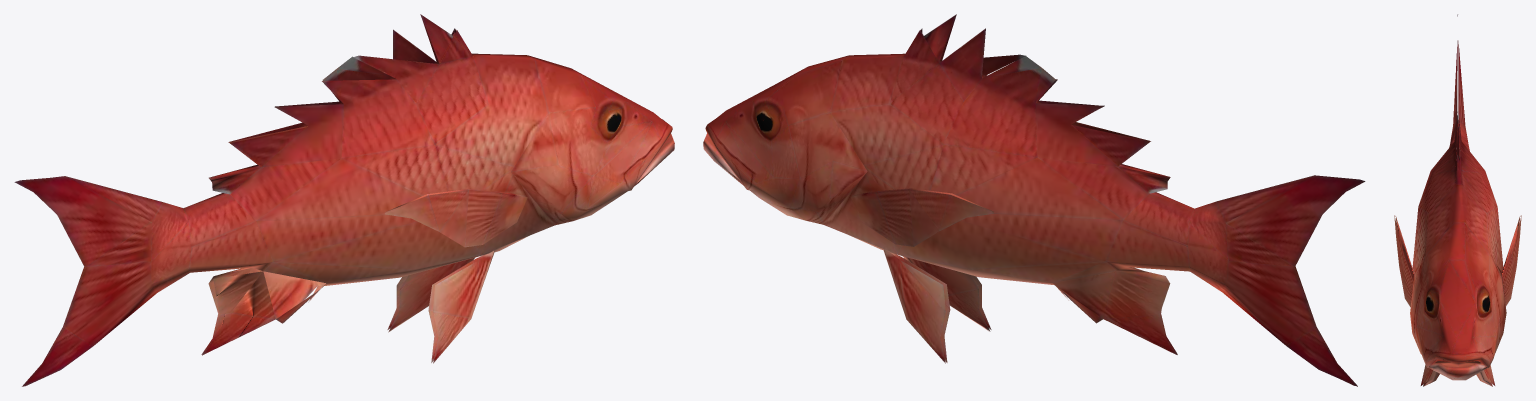
File: fish_red.glb
3 views of the same model, side by side, from view 1: azimuth 30°, elevation 25°; view 2: azimuth 150°, elevation 25°; view 3: azimuth 270°, elevation 25° (orthographic). The views are drawn at different scales.
Visible parts, largest first — view 1: geometry_0; view 2: geometry_0; view 3: geometry_0.
Part boxes in pixels (bbox=[...]): geometry_0: bbox=[14, 14, 674, 386]; geometry_0: bbox=[703, 14, 1365, 386]; geometry_0: bbox=[1394, 14, 1521, 386].
Bounding box in the file's own units: 1 × 0.4793 × 0.2043.
1 material, 1 textured.
